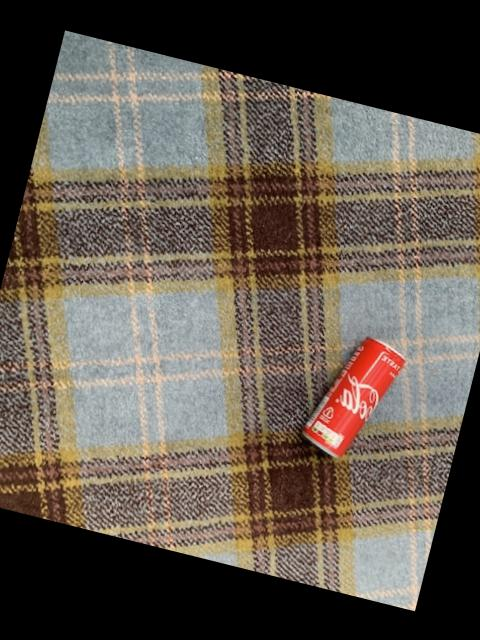metal: (302, 335, 404, 454)
